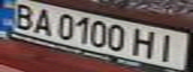0: (106, 21, 130, 53), (51, 11, 75, 40), (87, 18, 109, 48)
1: (69, 15, 93, 44)
A: (30, 6, 57, 35)
B: (6, 1, 39, 30)
H: (130, 26, 163, 60)
I: (154, 32, 187, 63)
